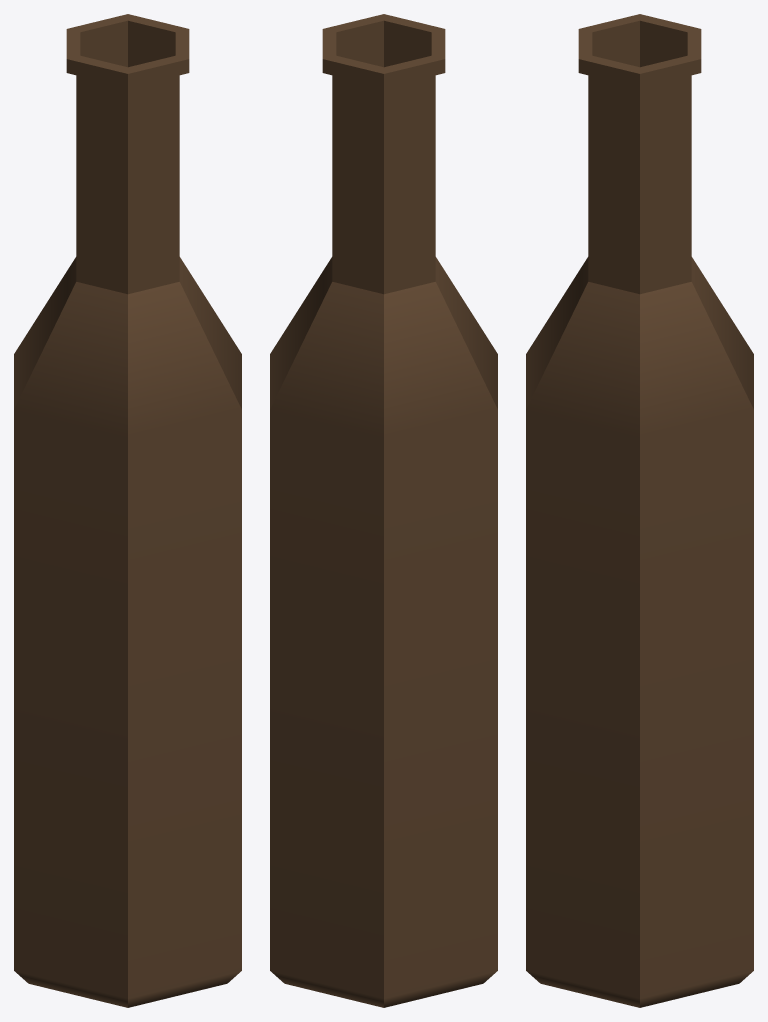
The model's file is Bottle.fbx.
3 views of the same model, side by side, from view 1: azimuth 30°, elevation 25°; view 2: azimuth 150°, elevation 25°; view 3: azimuth 270°, elevation 25° (orthographic).
Parts seen in each view (by area): view 1: pCylinder1; view 2: pCylinder1; view 3: pCylinder1.
Boxes of the visible parts, box(x1,y1,x2,y2) form: pCylinder1: box(14, 14, 241, 1007); pCylinder1: box(270, 14, 497, 1007); pCylinder1: box(526, 14, 753, 1007).
Size of the model in its own units: 8.54 by 32.78 by 7.39.
